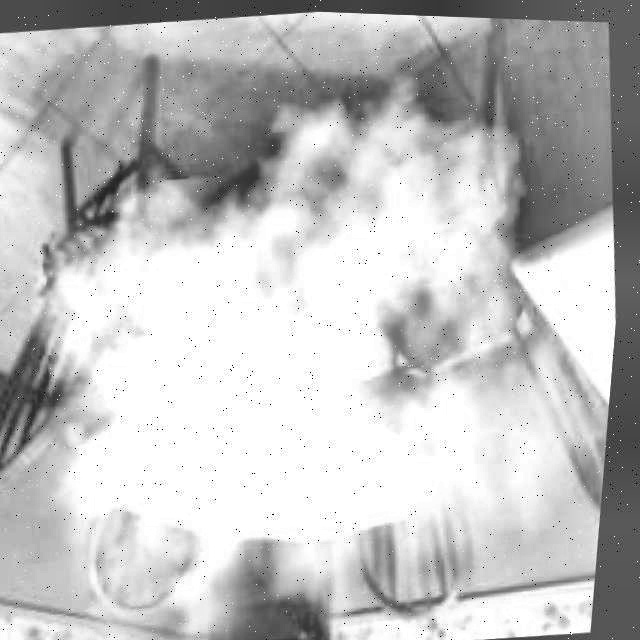Smoke: (0, 35, 638, 640)
